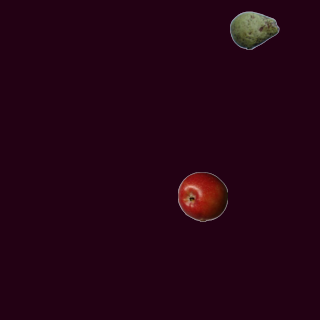Apple Braeburn: (177, 171, 227, 221)
Pear Stone: (229, 5, 279, 55)
